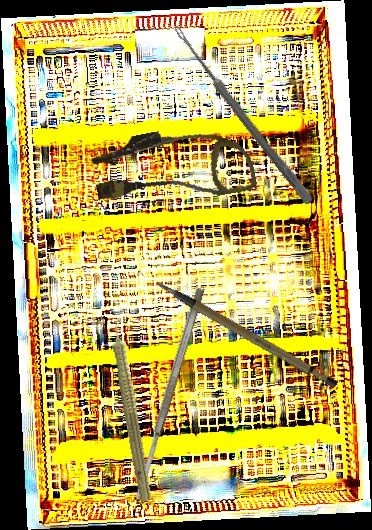Cannula: (88, 114, 258, 219)
Handpiece: (103, 308, 160, 503)
Scalpel Handle: (154, 253, 341, 411)
Spatula Surgical: (130, 286, 207, 502)
Surgical Spoon: (170, 24, 315, 205)
